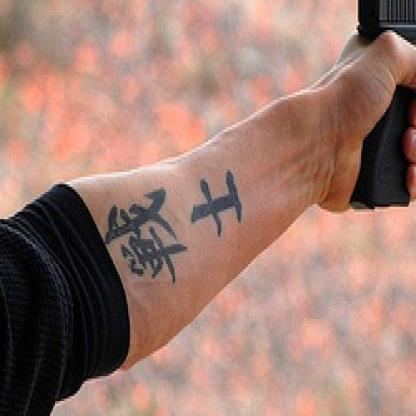gun: (346, 0, 414, 209)
